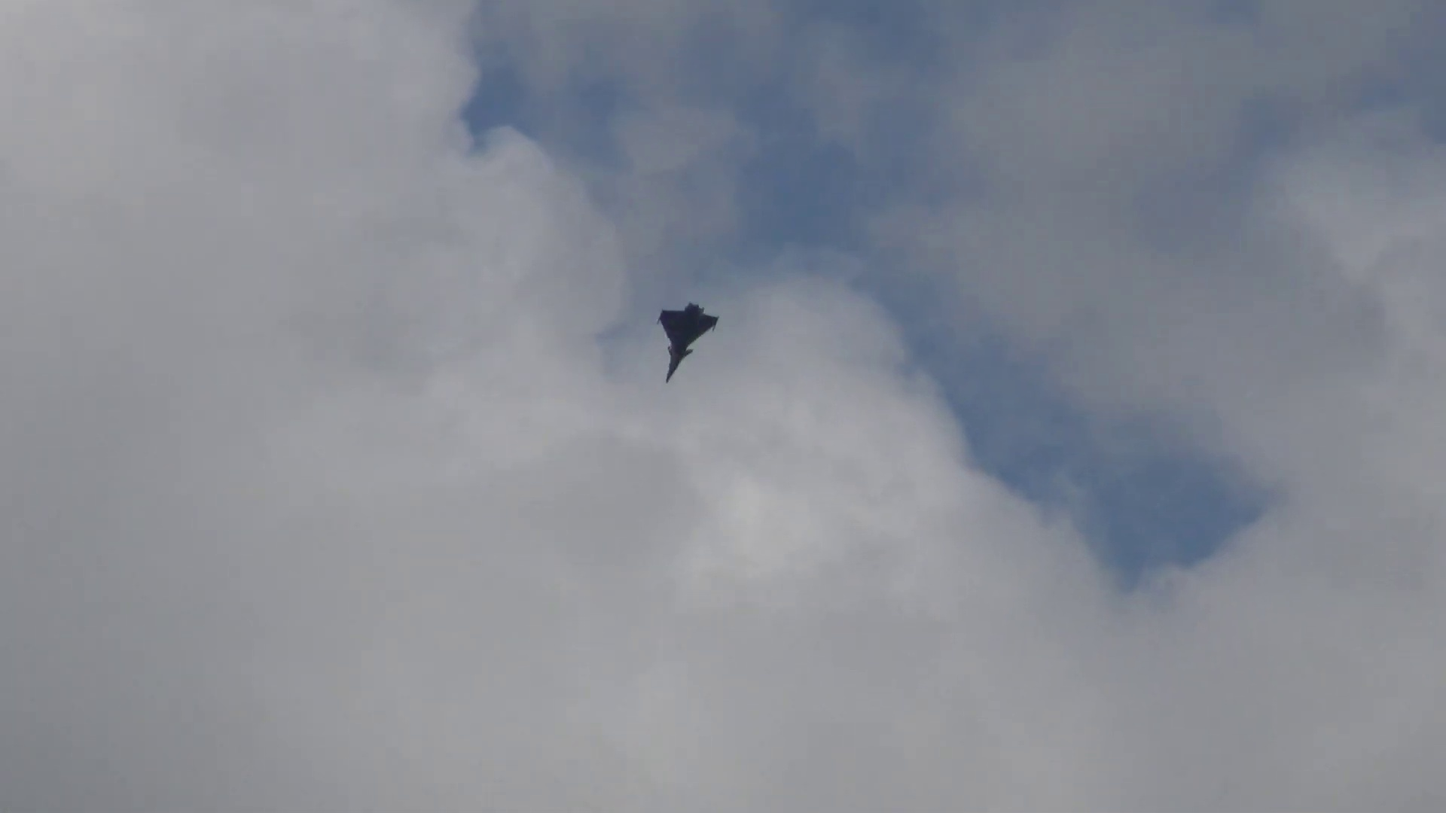Rafale: (656, 301, 720, 386)
